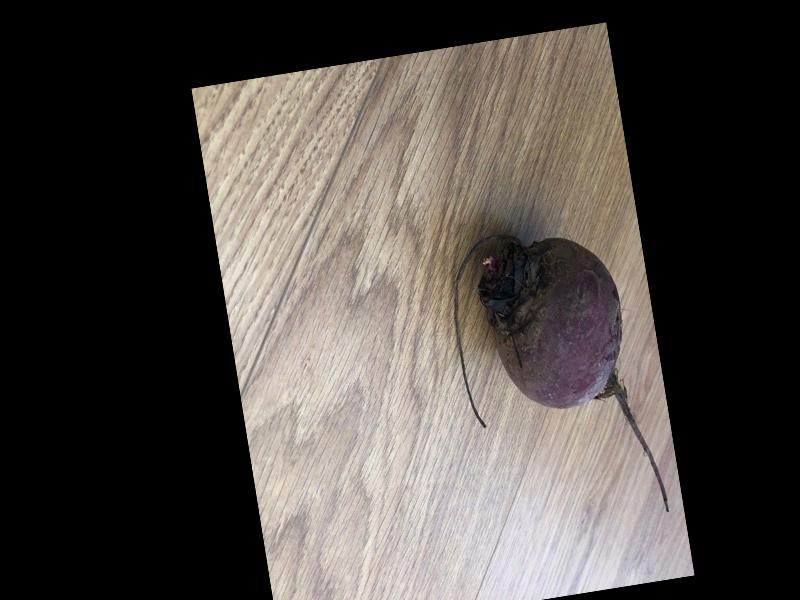Beet: (442, 217, 669, 541)
